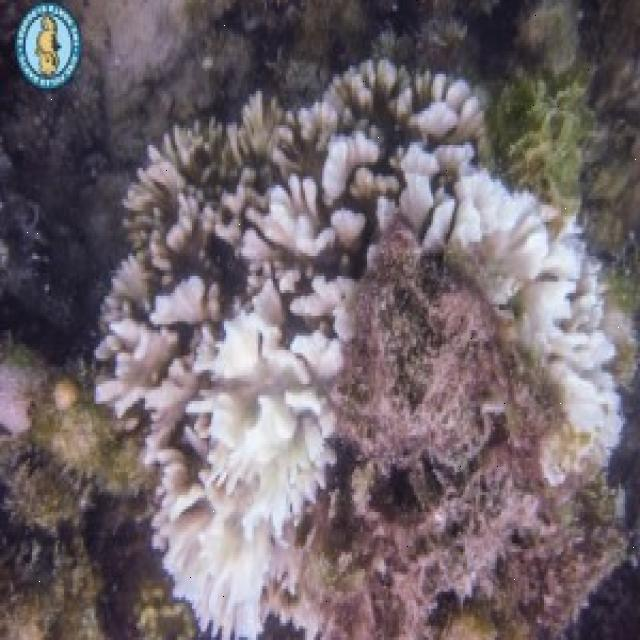Bleached: (166, 75, 494, 244), (132, 256, 335, 493), (154, 481, 264, 640), (506, 235, 596, 341), (558, 351, 627, 448), (1, 353, 37, 446)
Healthy: (339, 343, 559, 629), (1, 1, 90, 321), (1, 459, 135, 640), (541, 1, 640, 229)
